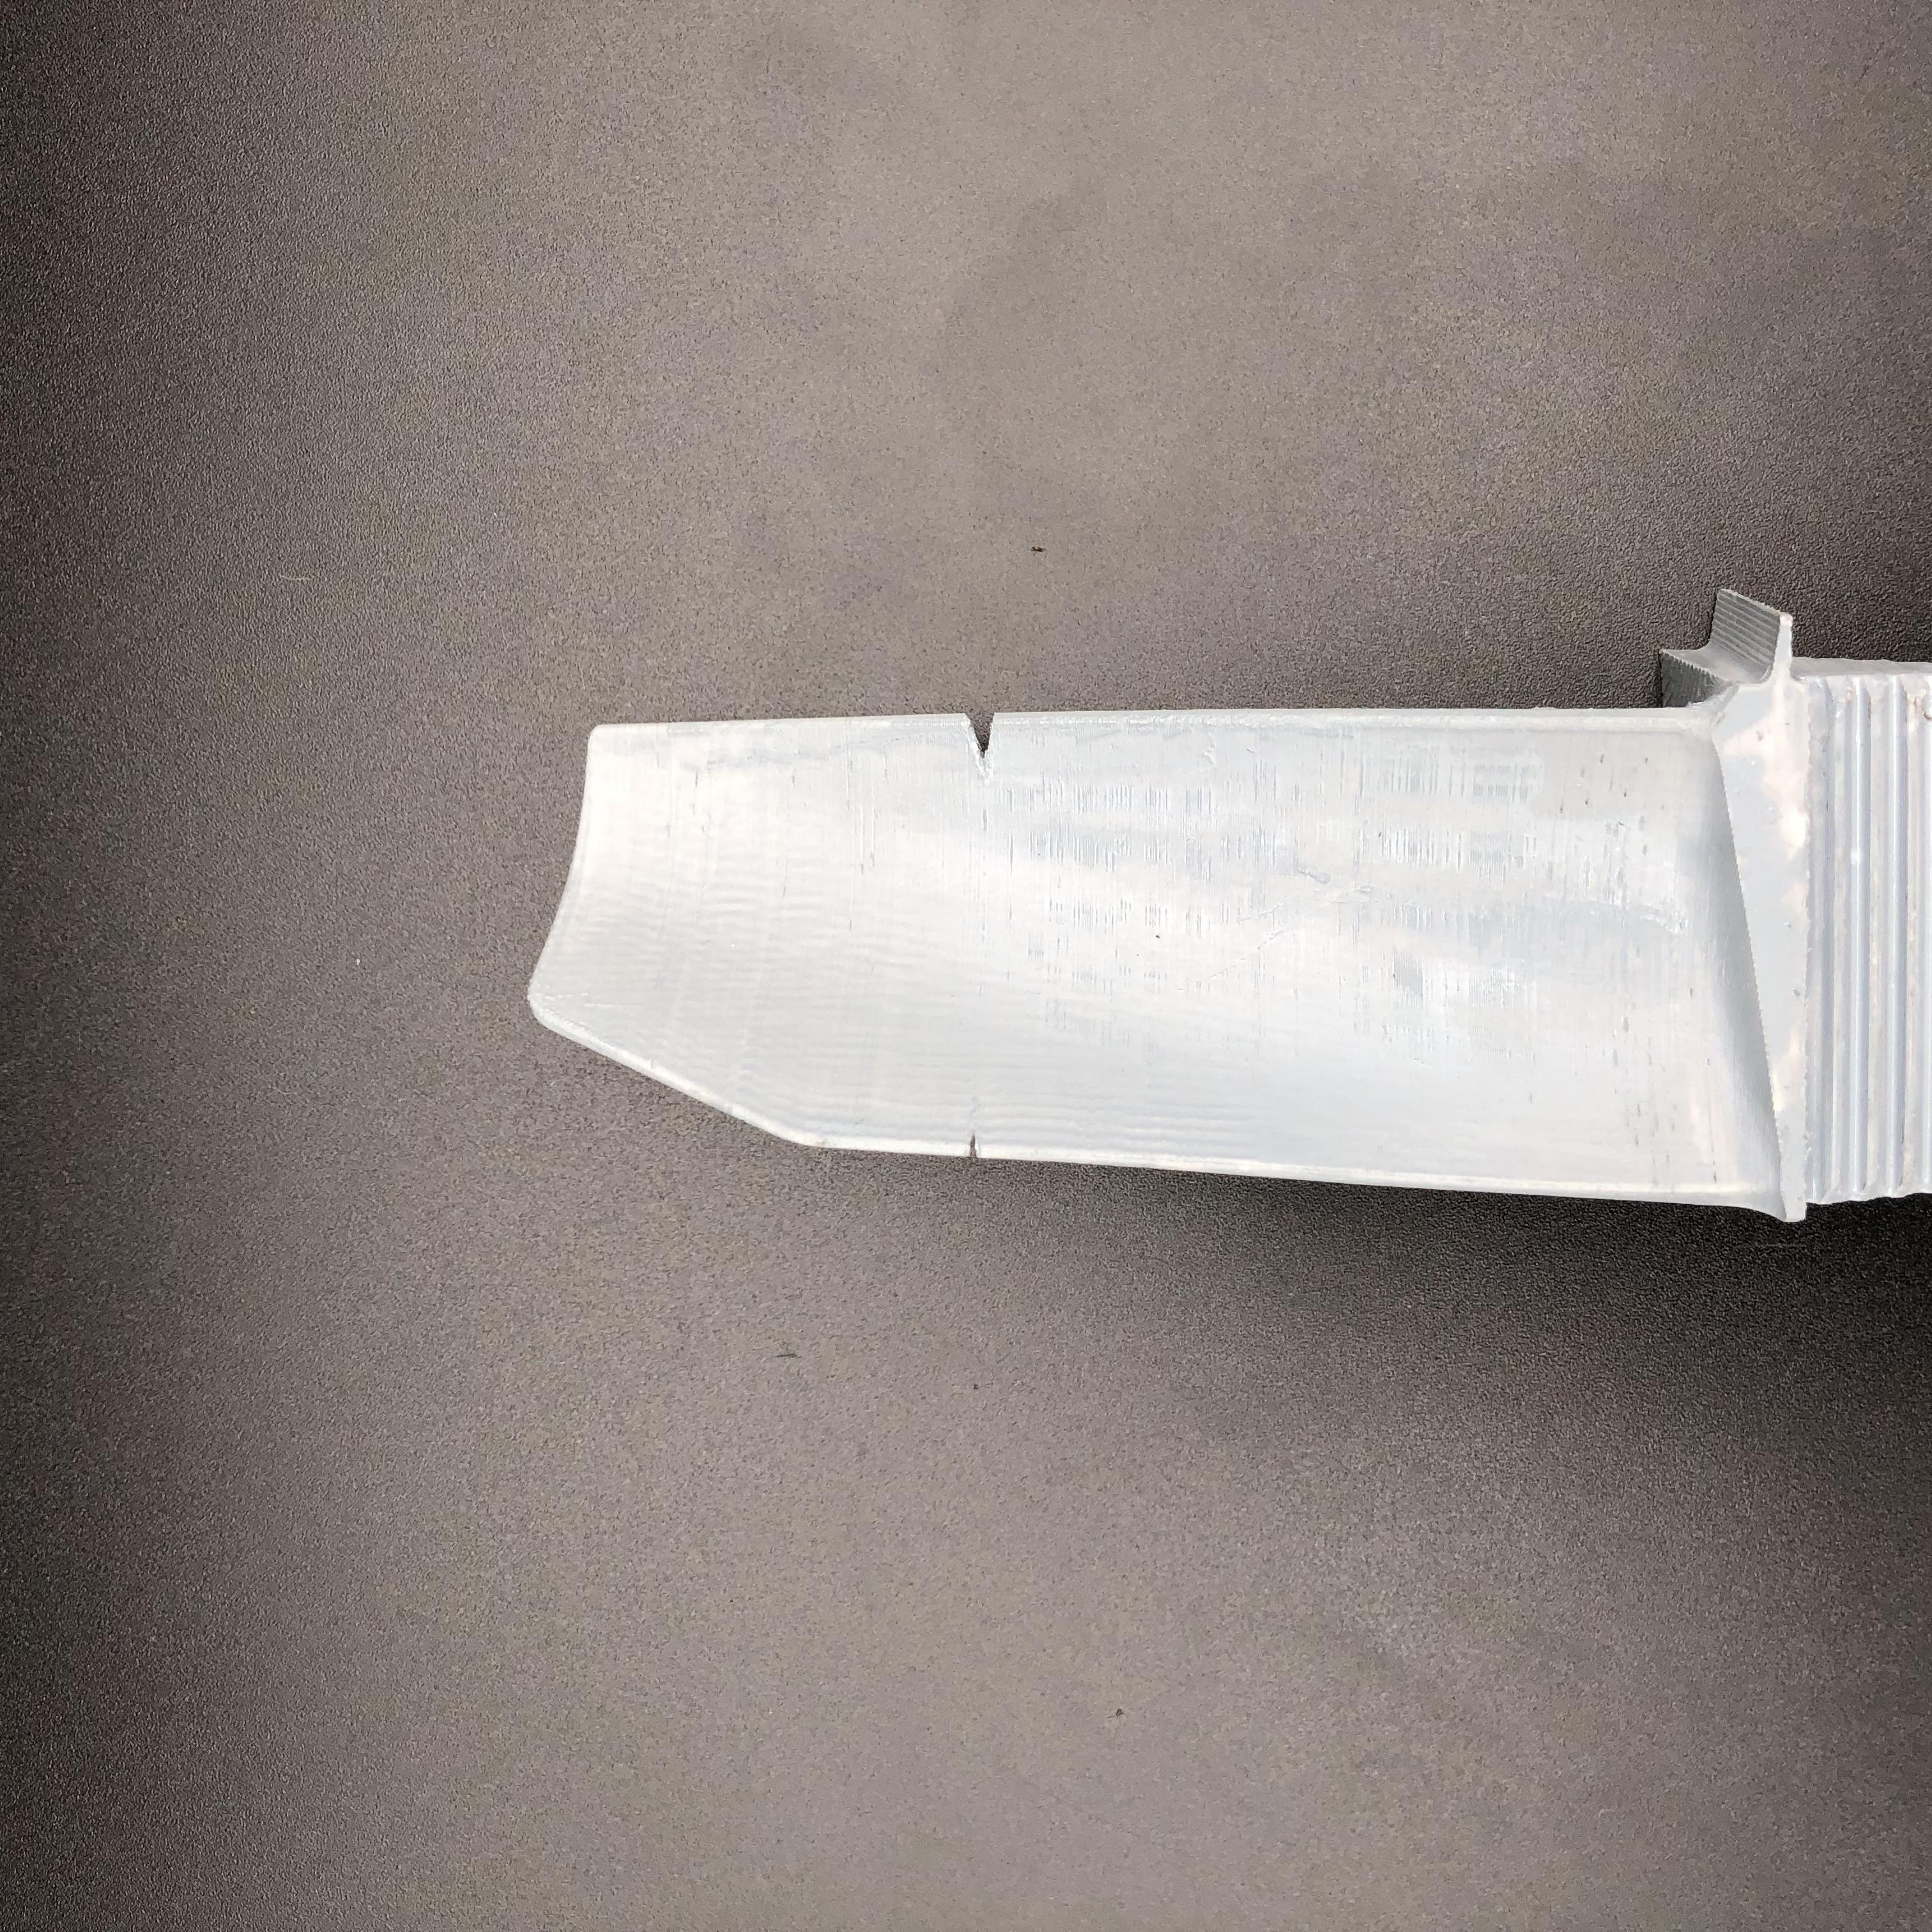groove: (957, 717, 1021, 773), (961, 1134, 993, 1157)
